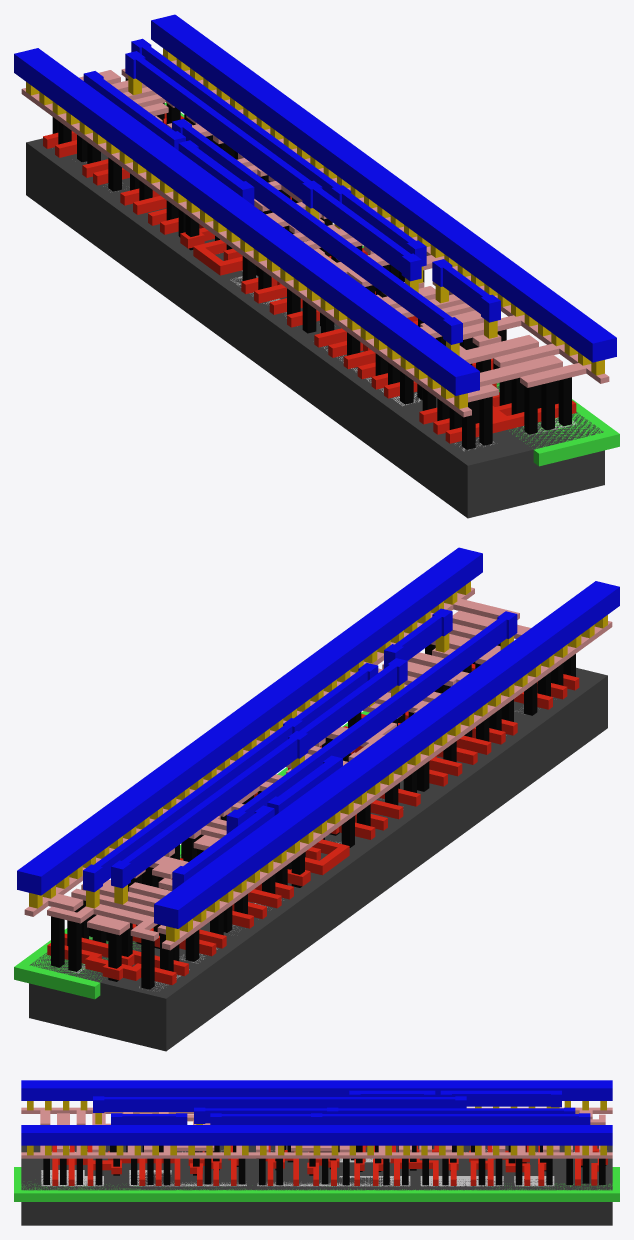
The model's file is sky130_fd_sc_hd__sedfxbp_2.obj.
3 views of the same model, one above another, from view 1: azimuth 30°, elevation 25°; view 2: azimuth 150°, elevation 25°; view 3: azimuth 270°, elevation 25° (orthographic). The views are drawn at different scales.
Visible parts, largest first — view 1: metal1, subs, li, licon, poly, mcon, nwell; view 2: metal1, subs, li, licon, poly, mcon, nwell; view 3: metal1, subs, nwell, li, poly, licon, mcon, tap.
Part boxes in pixels (box(x1,y1,x2,y2)): metal1: box(14, 14, 616, 395); subs: box(26, 138, 604, 518); li: box(21, 54, 609, 417); licon: box(52, 78, 571, 449); poly: box(43, 113, 576, 443); mcon: box(26, 48, 604, 408); nwell: box(164, 103, 619, 466); metal1: box(17, 547, 619, 928); subs: box(29, 667, 607, 1051); li: box(24, 587, 612, 950); licon: box(51, 643, 575, 989); poly: box(47, 663, 579, 985); mcon: box(29, 581, 607, 941); nwell: box(14, 711, 369, 999); metal1: box(21, 1080, 612, 1145); subs: box(21, 1145, 612, 1225); nwell: box(14, 1167, 619, 1201); li: box(21, 1107, 612, 1158); poly: box(52, 1145, 607, 1185); licon: box(43, 1145, 606, 1185); mcon: box(27, 1101, 606, 1155); tap: box(41, 1170, 554, 1186).
Bounding box in the file's own units: 3.2 × 2.74 × 15.56.
